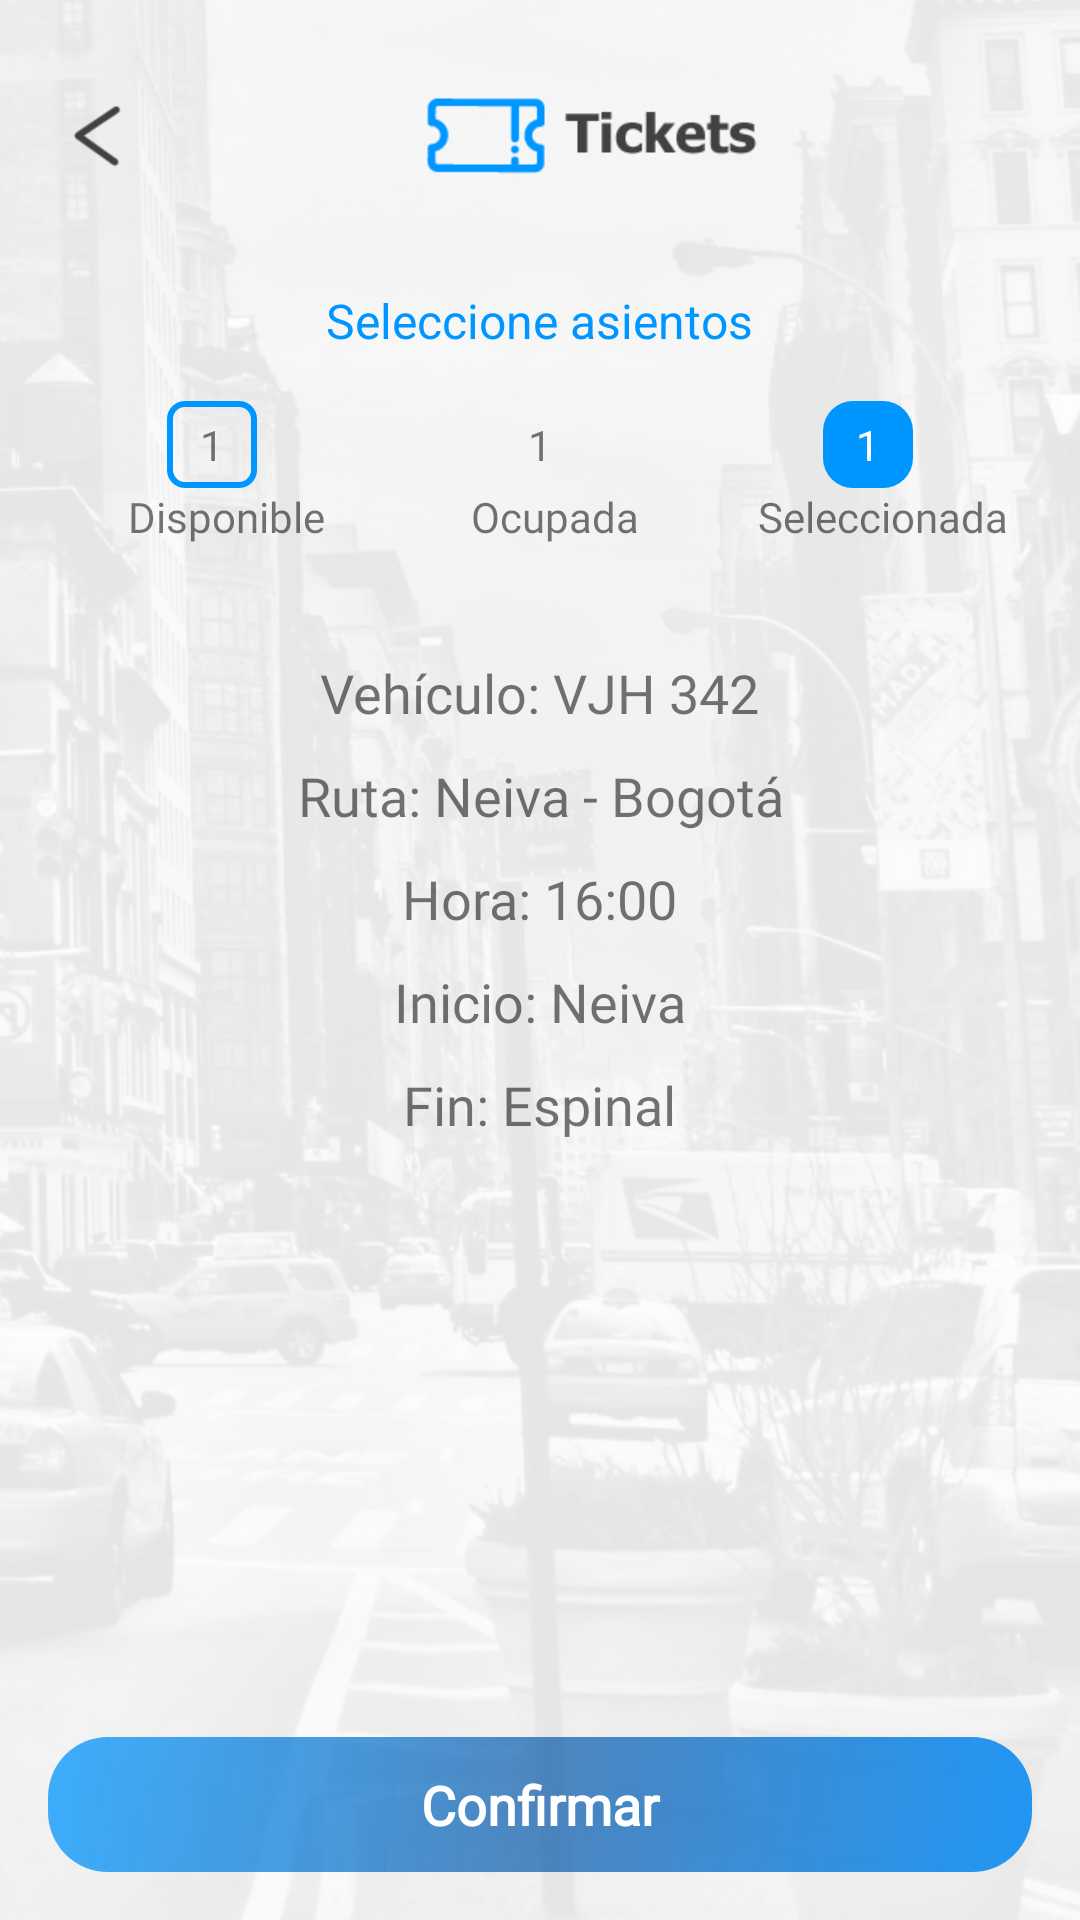

Screen size 1080px x 1920px. Icon name, then its center in pixels as (x=x, y=y):
back: (x=97, y=136)
